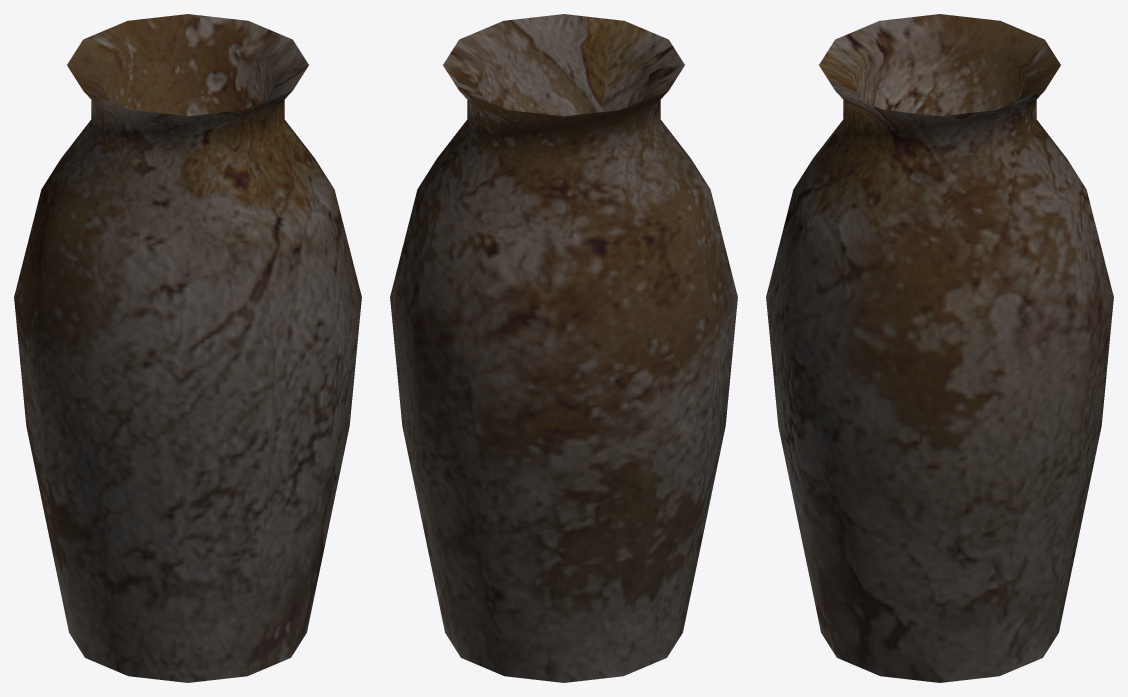
File: Jug1.fbx
3 renders of one model, left to right at view 1: azimuth 30°, elevation 25°; view 2: azimuth 150°, elevation 25°; view 3: azimuth 270°, elevation 25°, orthographic.
Visible parts, largest first — view 1: dzban1; view 2: dzban1; view 3: dzban1.
Part boxes in pixels (box(x1,y1,x2,y2)): dzban1: box(14, 14, 361, 682); dzban1: box(390, 14, 737, 682); dzban1: box(766, 14, 1113, 682).
Bounding box in the file's own units: 1.94 × 3.5 × 1.94.
